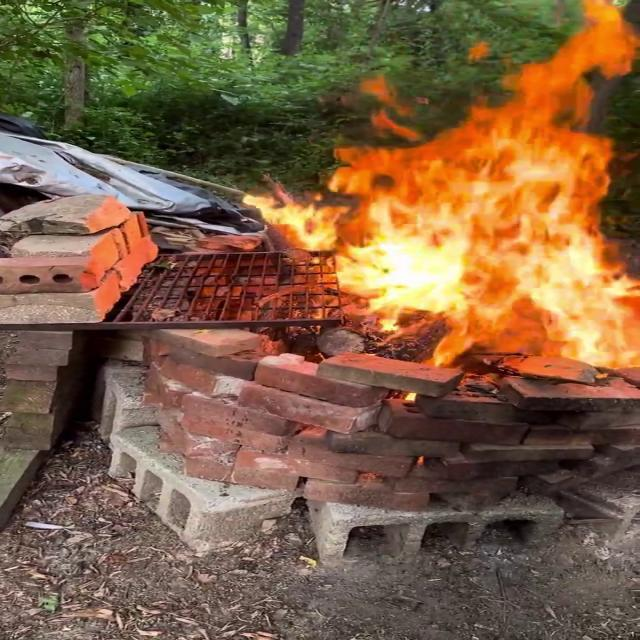Fire: (266, 3, 640, 386)
